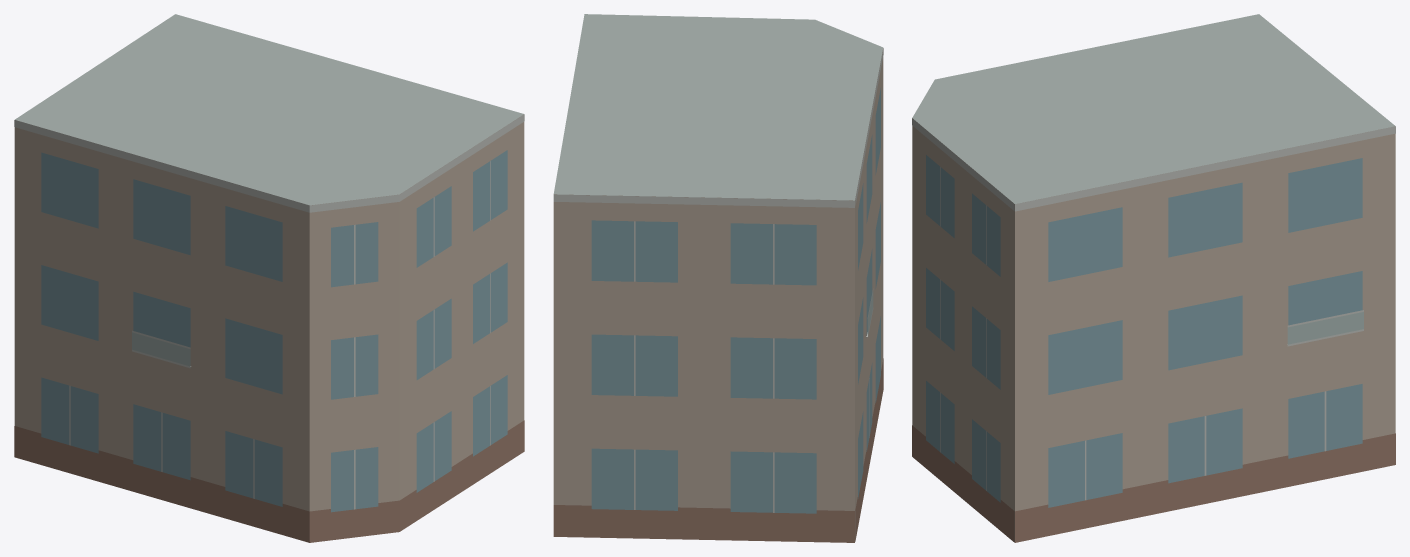
Rendered from survey-upis-32707402.glb.
The picture shows the model from 3 angles, left to right: view 1: azimuth 30°, elevation 25°; view 2: azimuth 150°, elevation 25°; view 3: azimuth 270°, elevation 25°; orthographic projection.
Visible parts, largest first — view 1: survey-upis-32707402.tmp; view 2: survey-upis-32707402.tmp; view 3: survey-upis-32707402.tmp.
Boxes of the visible parts, x1=… form: survey-upis-32707402.tmp: x1=14, y1=14, x2=524, y2=542; survey-upis-32707402.tmp: x1=553, y1=14, x2=883, y2=542; survey-upis-32707402.tmp: x1=912, y1=14, x2=1395, y2=542.
Bounding box in the file's own units: 13.5 × 11.2 × 14.51.
